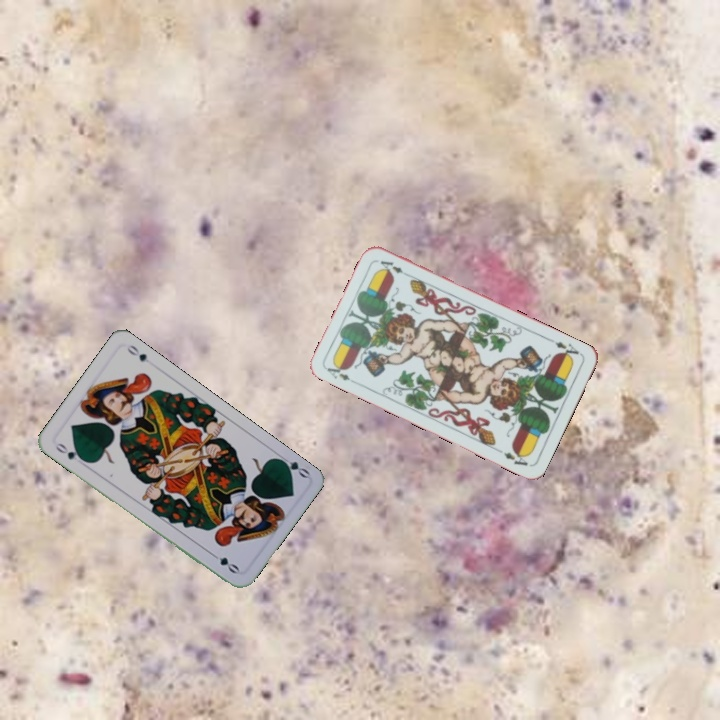EA: (546, 335, 584, 363), (323, 359, 360, 387)
GO: (274, 451, 312, 481), (51, 439, 88, 464)
